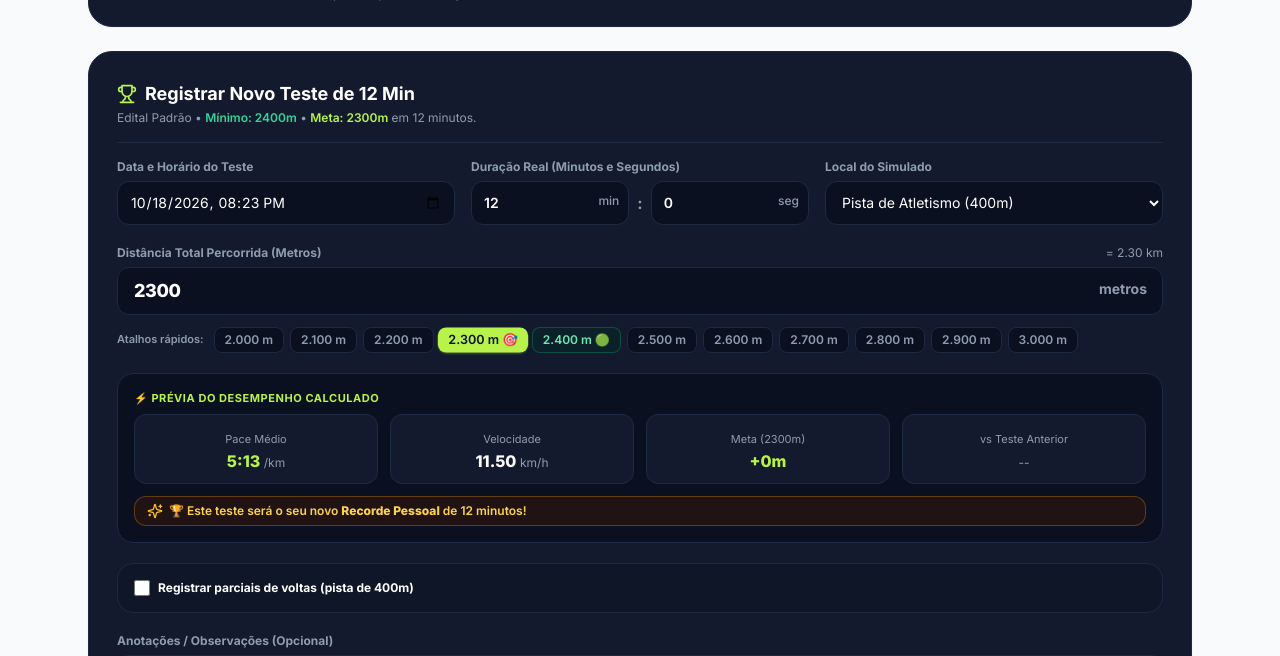
Scenario: MeuTafPage - Fase C (Histórico de 12 Minutos e Interface do TAF) › exibe mensagem de erro e não reseta campos se a API do Supabase falhar ao salvar
This screenshot has width=1280, height=656.
(page scrolled)
Click the button "2.400 m 🟢" at (576,340), box [532,326,621,352]
(page scrolled)
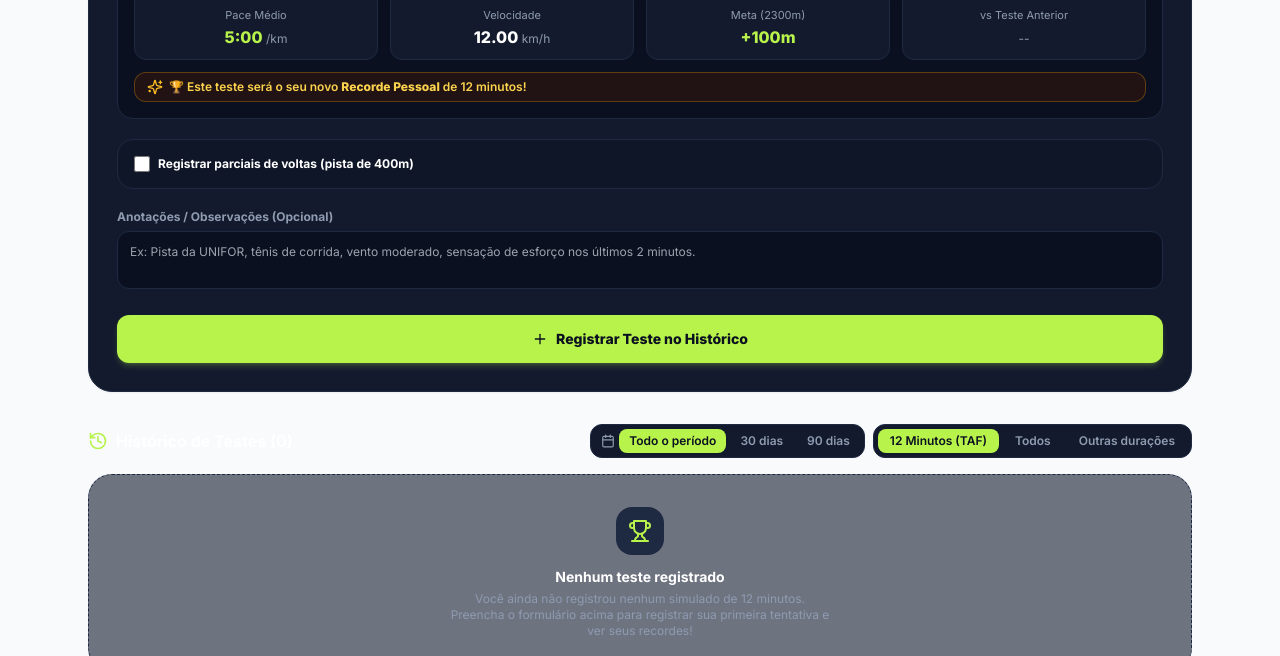
Click the button with test id "submit-attempt-btn" at (640,339), box [117,315,1163,363]
(page scrolled)
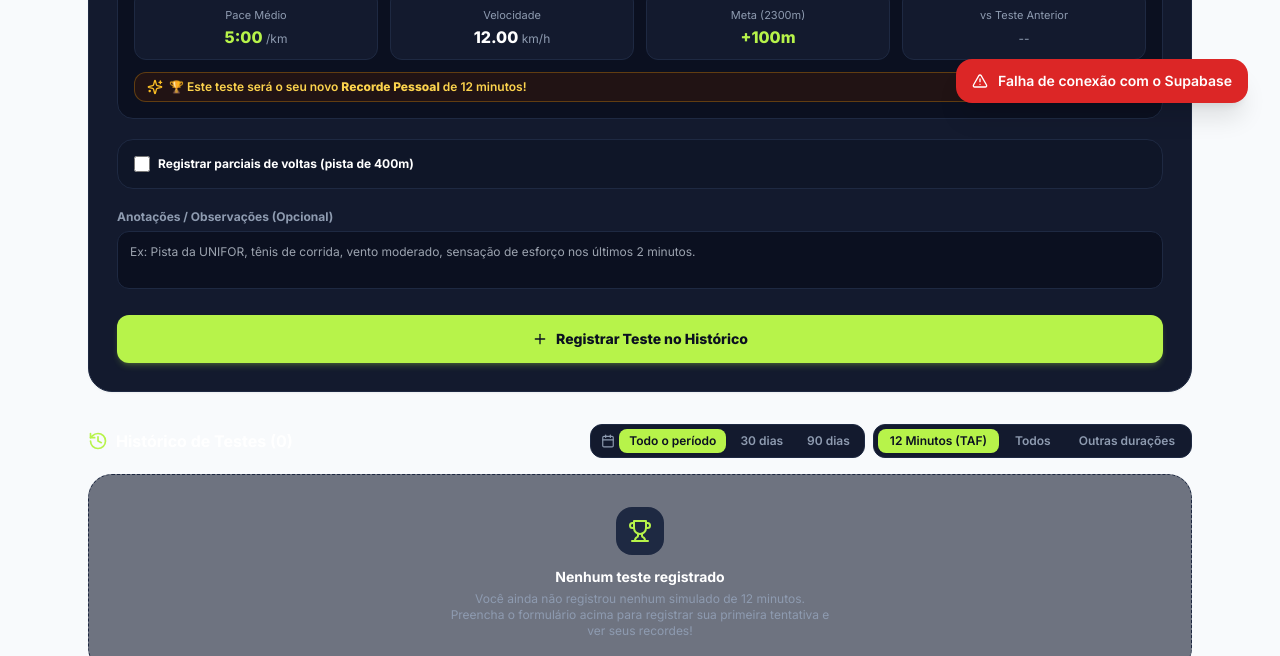
Now the text "5:00" is shown, box [225,27,262,47]
Now the element with test id "toast-notification" reads "Falha de conexão com o Supabase", box [998,72,1232,89]
